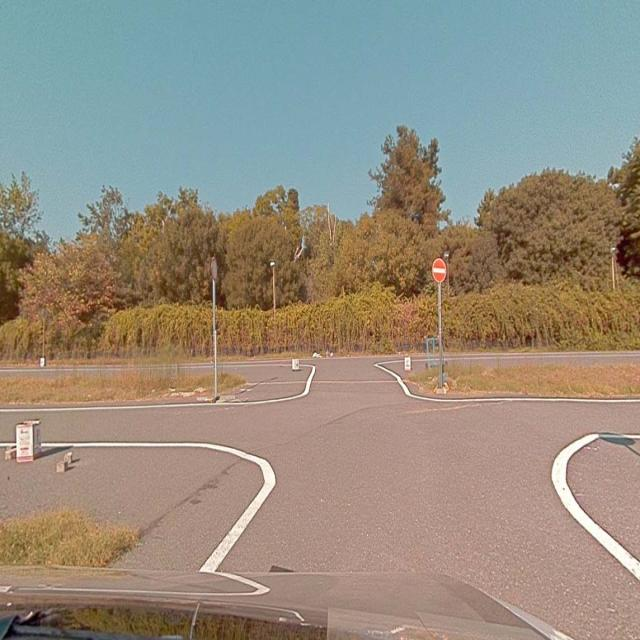girisyok: (432, 257, 446, 282)
